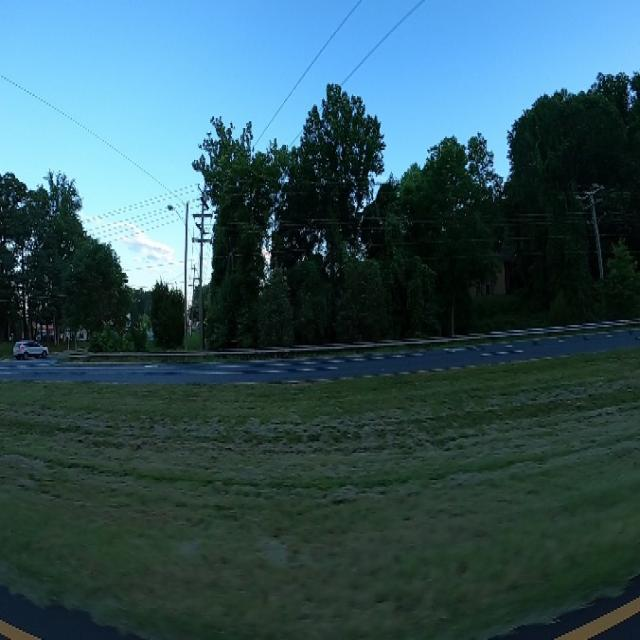cars: (10, 328, 49, 364)
